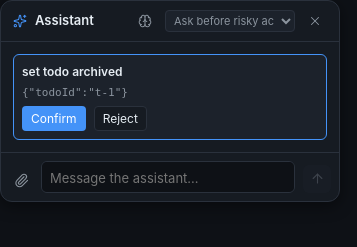
Test: AssistantPane › rejects a proposed action and shows the outcome
What coordinates should you click on to do the following:
click the button "Reject"
I would click on:
 (120, 118)
Its box is [94,106,147,130].
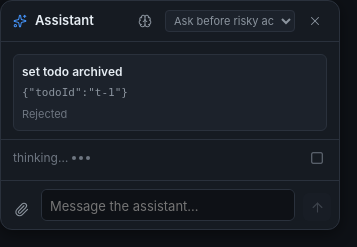
Expected: the text "Rejected" is shown, [22,106,67,120]
